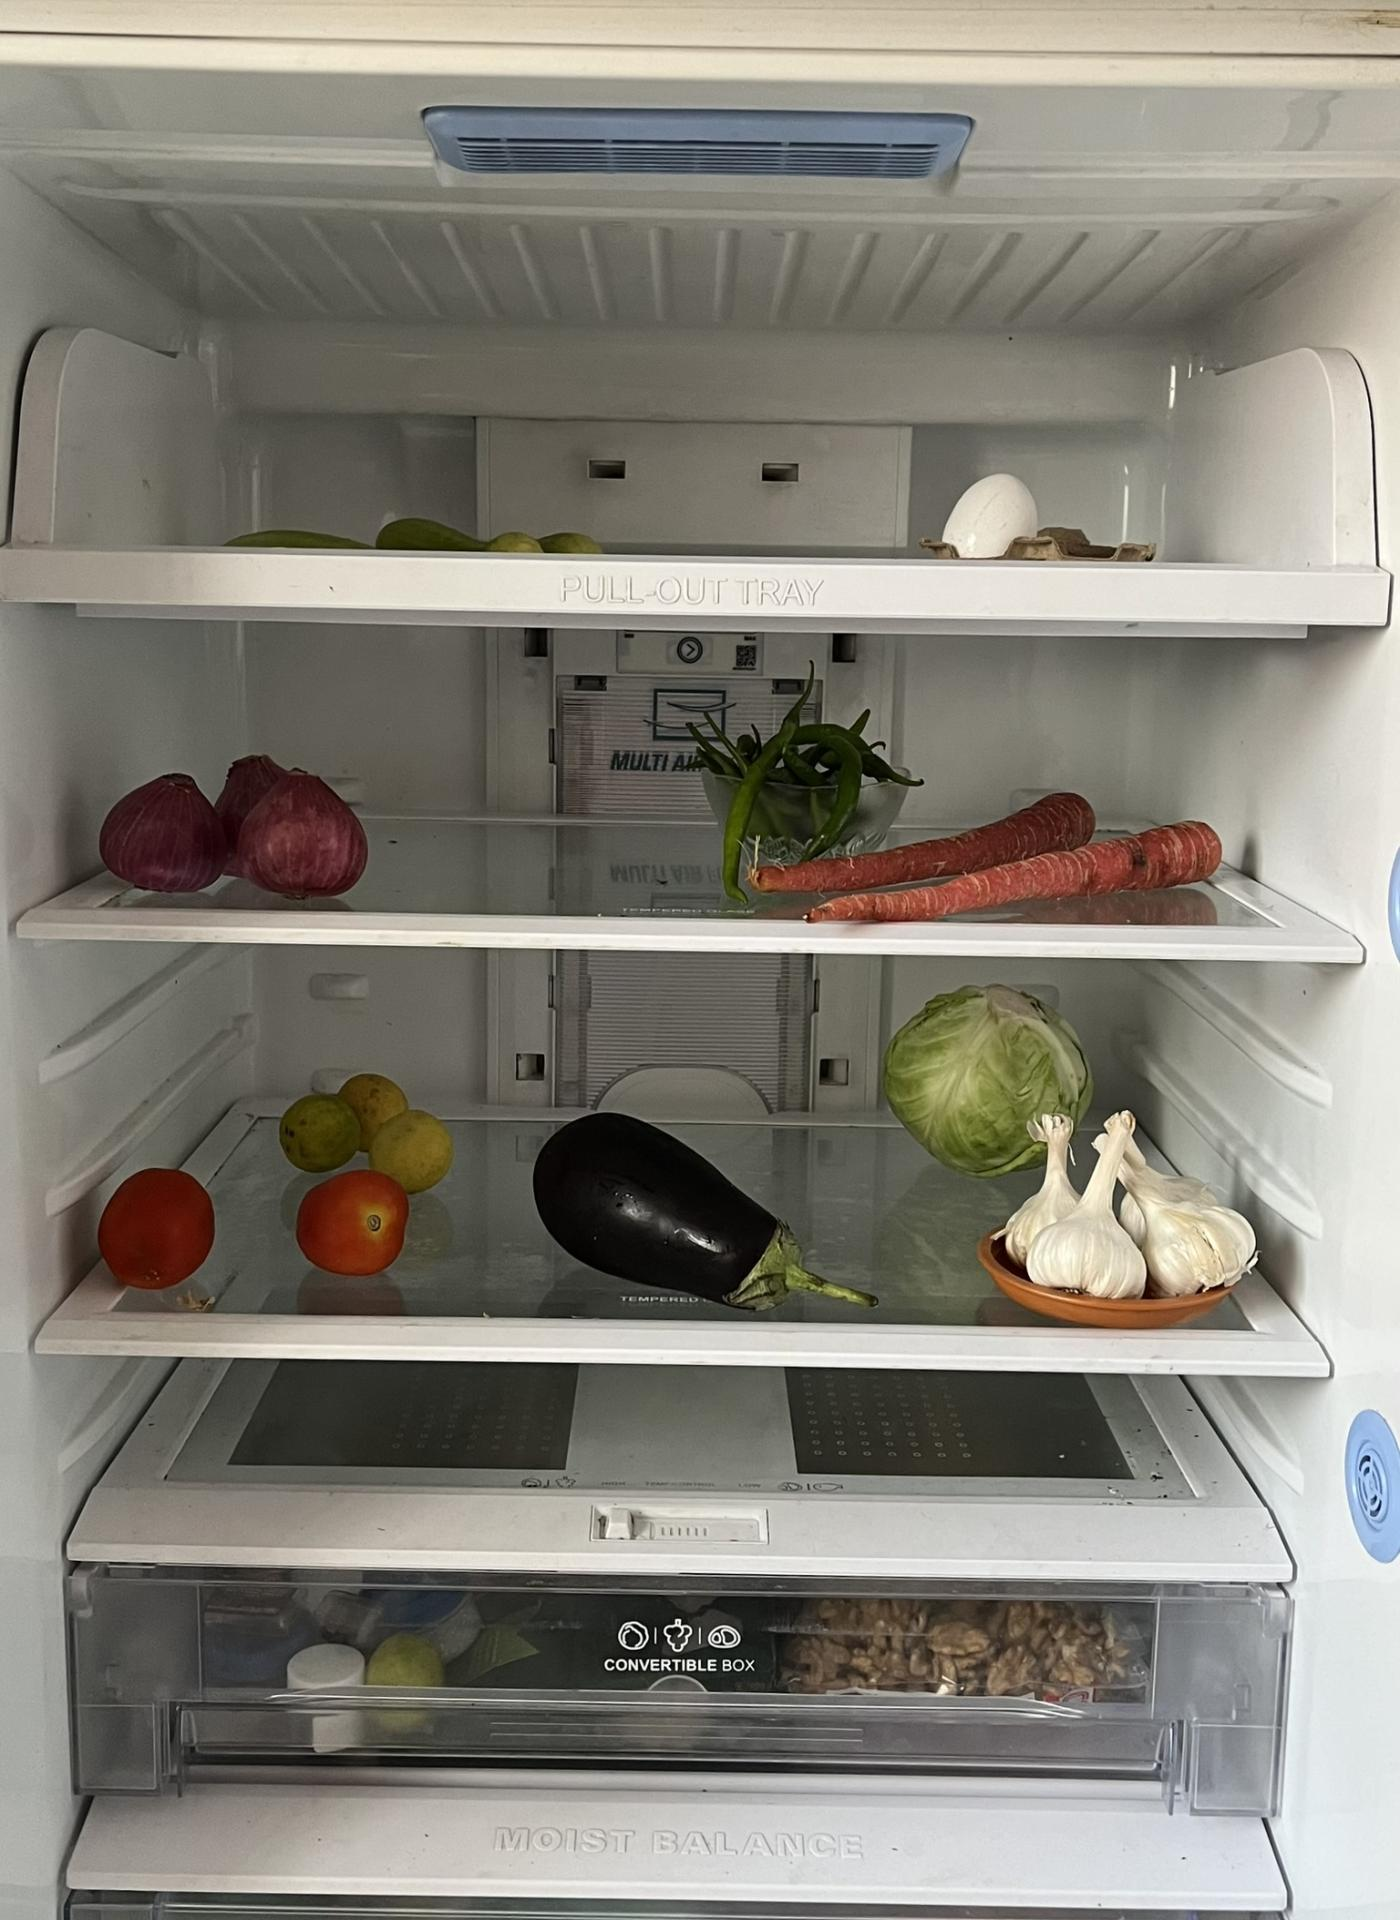brinjal: (532, 1094, 856, 1298)
cabbage: (886, 985, 1094, 1172)
carrots: (737, 802, 1223, 929)
chillies: (701, 708, 918, 863)
egg: (945, 470, 1041, 574)
garlic: (990, 1103, 1255, 1298)
onion: (101, 751, 374, 896)
tomato: (97, 1164, 219, 1298), (294, 1161, 428, 1272)
